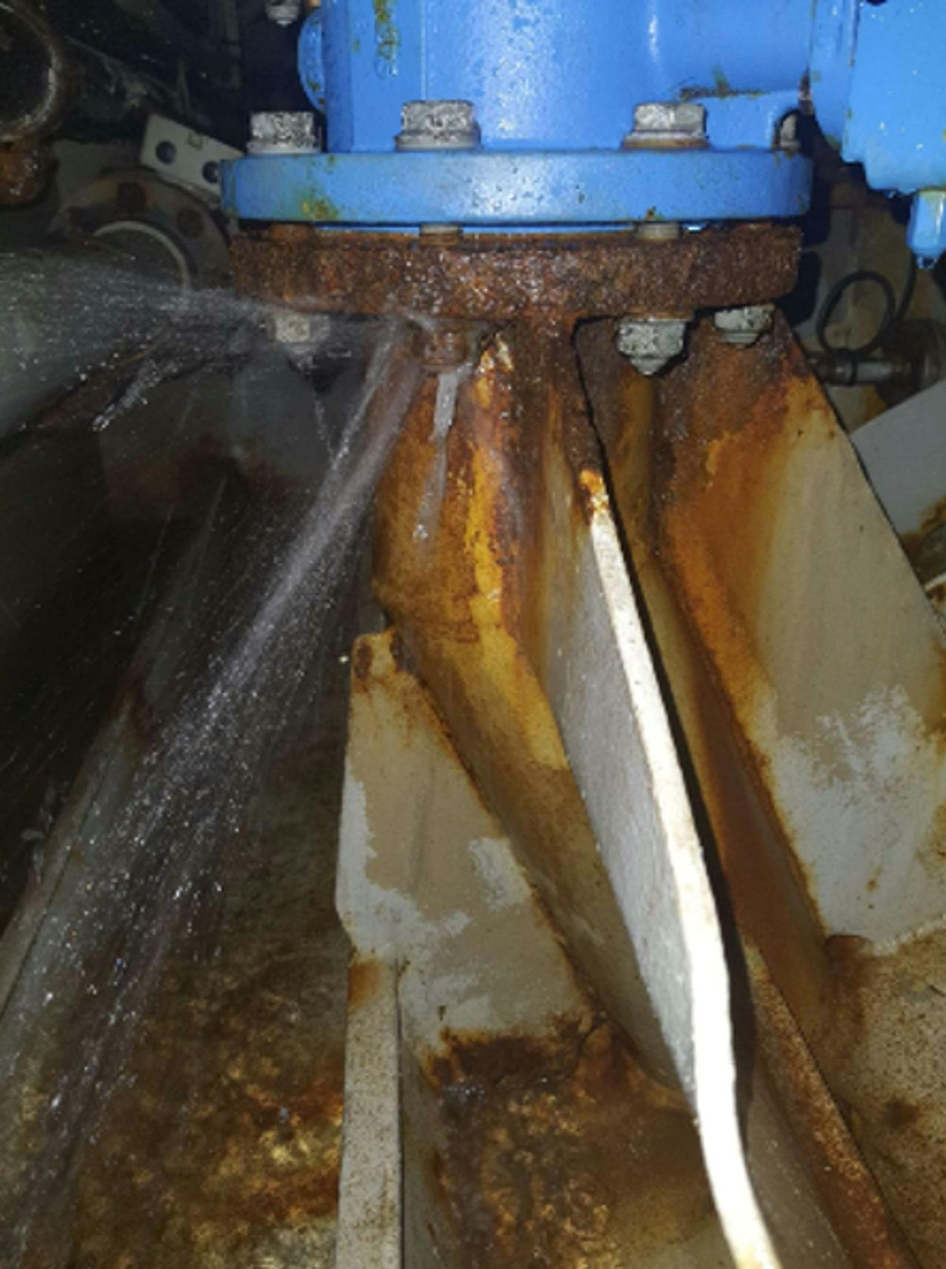pipe burst: (0, 250, 459, 1260)
